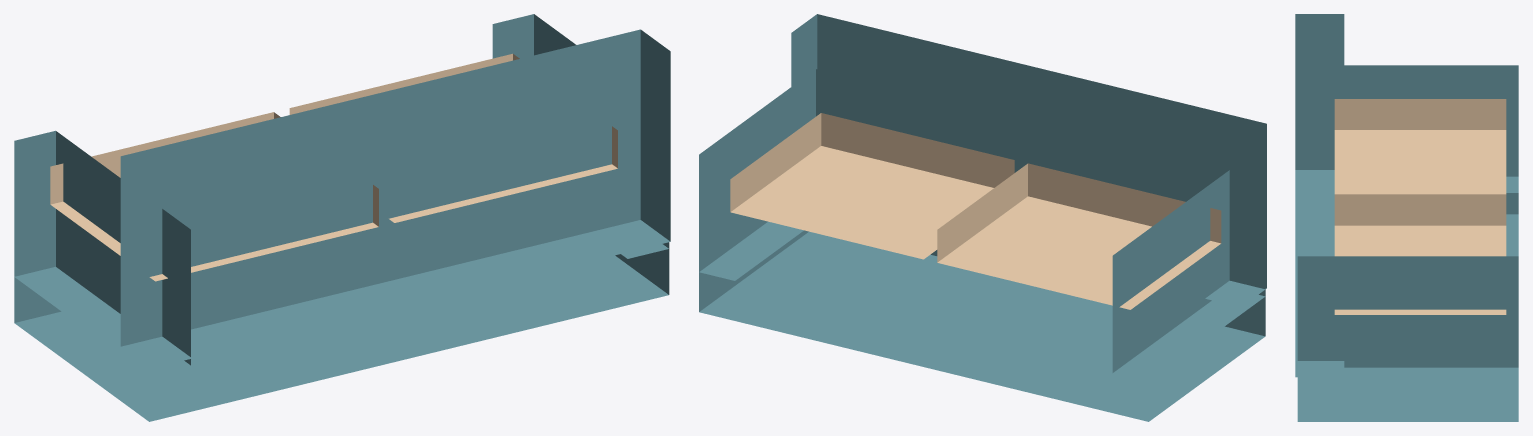
File: sofa.glb
3 views of the same model, side by side, from view 1: azimuth 30°, elevation 25°; view 2: azimuth 150°, elevation 25°; view 3: azimuth 270°, elevation 25° (orthographic). The views are drawn at different scales.
Visible parts, largest first — view 1: base, cushions; view 2: base, cushions; view 3: base, cushions.
Boxes of the visible parts, x1=… form: base: x1=14, y1=14, x2=670, y2=421; cushions: x1=50, y1=53, x2=617, y2=281; base: x1=699, y1=14, x2=1266, y2=421; cushions: x1=730, y1=113, x2=1221, y2=309; base: x1=1295, y1=14, x2=1518, y2=421; cushions: x1=1334, y1=99, x2=1506, y2=314.
Size of the model in its own units: 2 by 0.9 by 0.91.
